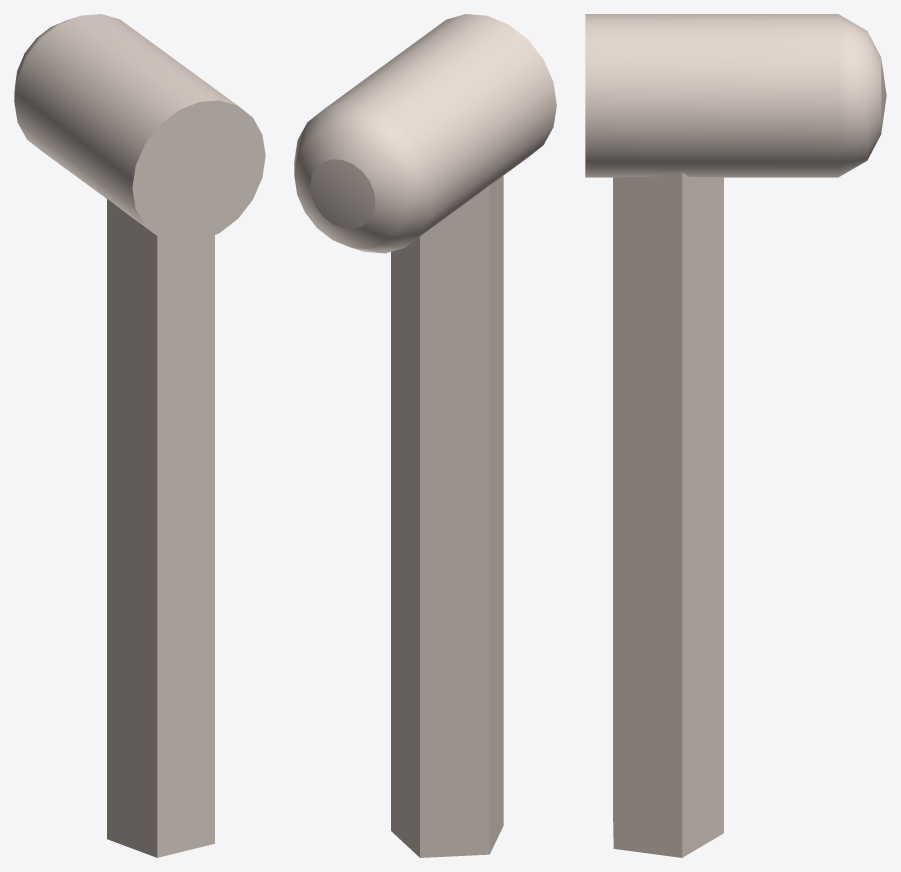
Rendered from weeblTurbinePost.fbx.
3 views of the same model, side by side, from view 1: azimuth 30°, elevation 25°; view 2: azimuth 150°, elevation 25°; view 3: azimuth 270°, elevation 25° (orthographic). The views are drawn at different scales.
Visible parts, largest first — view 1: polySurface5; view 2: polySurface5; view 3: polySurface5.
Part boxes in pixels (x1=…): polySurface5: x1=14, y1=14, x2=265, y2=857; polySurface5: x1=294, y1=14, x2=556, y2=857; polySurface5: x1=585, y1=14, x2=886, y2=857.
Bounding box in the file's own units: 40.73 × 221 × 74.43.
